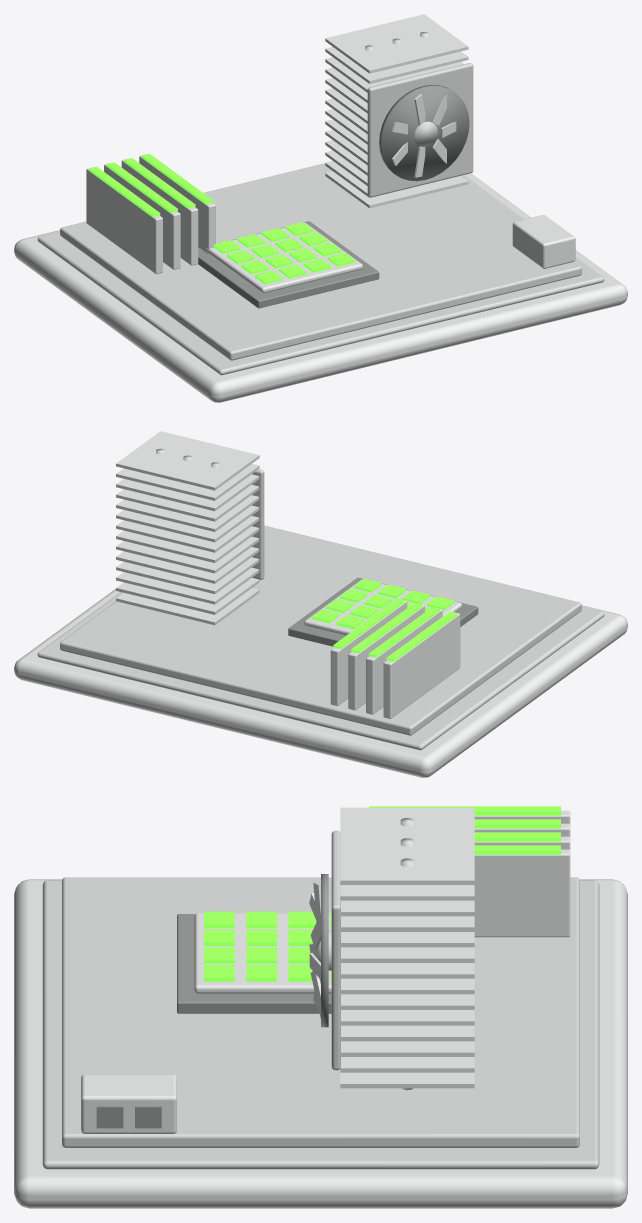
File: component-cpuTool.glb
3 renders of one model, top to bottom at view 1: azimuth 30°, elevation 25°; view 2: azimuth 150°, elevation 25°; view 3: azimuth 270°, elevation 25°, orthographic. The views are drawn at different scales.
Parts seen in each view (by area): view 1: cpu_board, cpu_podium, cpu_paving, cpu_cooler_frame, cpu_cooler_fan_well, cpu_cooler_fin_13, cpu_ram_0, cpu_socket, cpu_ihs, cpu_nic, cpu_ram_2, cpu_cooler_fin_0 (+8 smaller); view 2: cpu_board, cpu_podium, cpu_paving, cpu_cooler_fin_13, cpu_ram_0, cpu_ram_3, cpu_cooler_fin_12, cpu_cooler_fin_1, cpu_cooler_fin_3, cpu_cooler_fin_5, cpu_cooler_fin_0, cpu_cooler_fin_4 (+16 smaller); view 3: cpu_board, cpu_podium, cpu_paving, cpu_cooler_fin_13, cpu_ram_3, cpu_nic, cpu_ihs, cpu_socket, cpu_cooler_frame, cpu_cooler_fin_0, cpu_cooler_fin_3, cpu_cooler_fin_6 (+20 smaller).
Part boxes in pixels (x1,y1,x2,y2): cpu_board: (60,163,581,360); cpu_podium: (14,173,627,402); cpu_paving: (37,175,604,375); cpu_cooler_frame: (367,63,473,197); cpu_cooler_fan_well: (379,85,469,181); cpu_cooler_fin_13: (325,14,468,73); cpu_ram_0: (86,167,162,274); cpu_socket: (198,221,379,308); cpu_ihs: (205,222,362,293); cpu_nic: (512,215,575,268); cpu_ram_2: (121,158,198,265); cpu_cooler_fin_0: (325,171,468,208); cpu_board: (60,525,581,735); cpu_podium: (14,589,627,777); cpu_paving: (37,592,604,750); cpu_cooler_fin_13: (116,431,259,490); cpu_ram_0: (383,612,460,718); cpu_ram_3: (330,599,407,705); cpu_cooler_fin_12: (116,464,259,500); cpu_cooler_fin_1: (116,578,259,614); cpu_cooler_fin_3: (116,557,259,593); cpu_cooler_fin_5: (116,536,259,573); cpu_cooler_fin_0: (116,588,259,625); cpu_cooler_fin_4: (116,547,259,583); cpu_board: (62,877,579,1147); cpu_podium: (14,879,627,1208); cpu_paving: (42,880,599,1169); cpu_cooler_fin_13: (340,807,474,884); cpu_ram_3: (474,849,570,937); cpu_nic: (81,1074,176,1133); cpu_ihs: (194,913,331,993); cpu_socket: (177,914,331,1013); cpu_cooler_frame: (331,830,340,1070); cpu_cooler_fin_0: (340,1072,474,1088); cpu_cooler_fin_3: (341,1025,474,1041); cpu_cooler_fin_6: (341,978,474,994).
Size of the model in its own units: 3.8 by 1.7 by 3.2.
